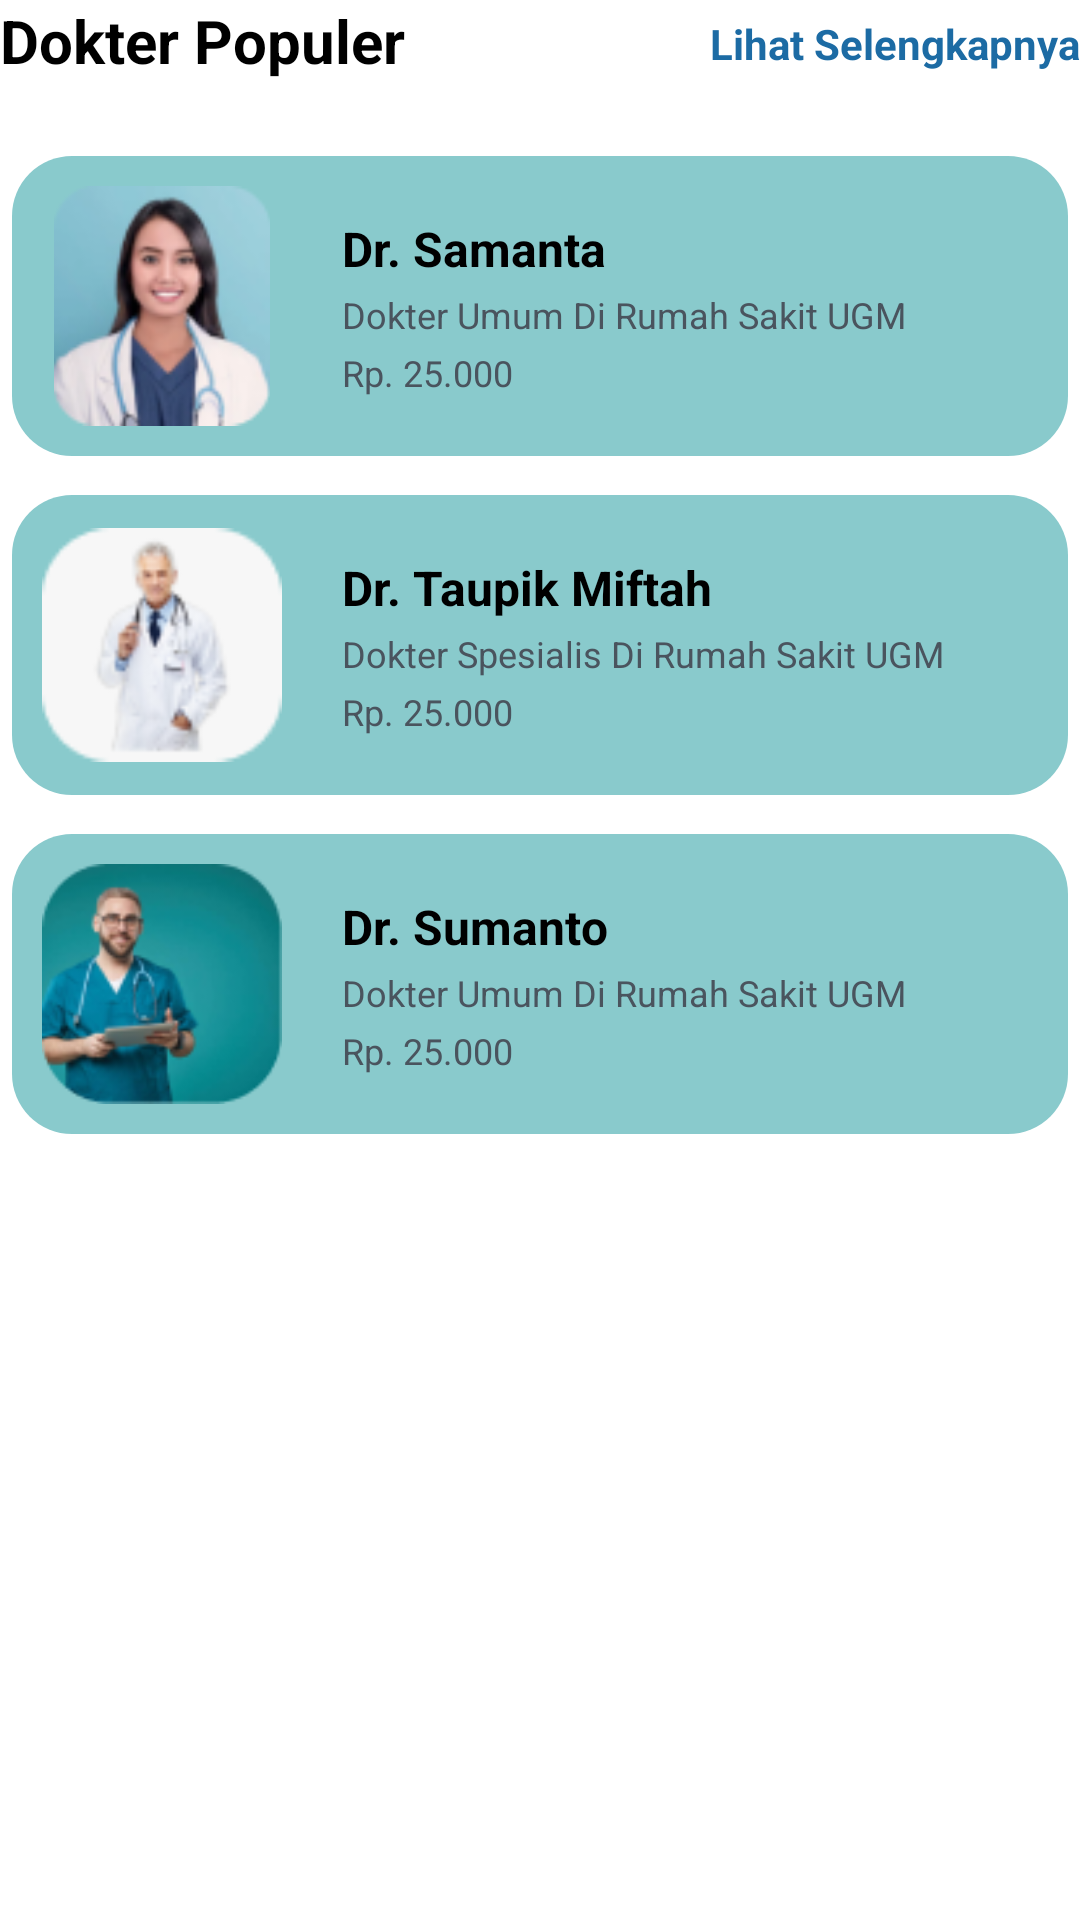

Icons on this 1080×1920 Android screen, each with the point to tap as [x,y]:
docter online: [162,984]
dokter fem: [162,306]
profil dokter: [162,645]
